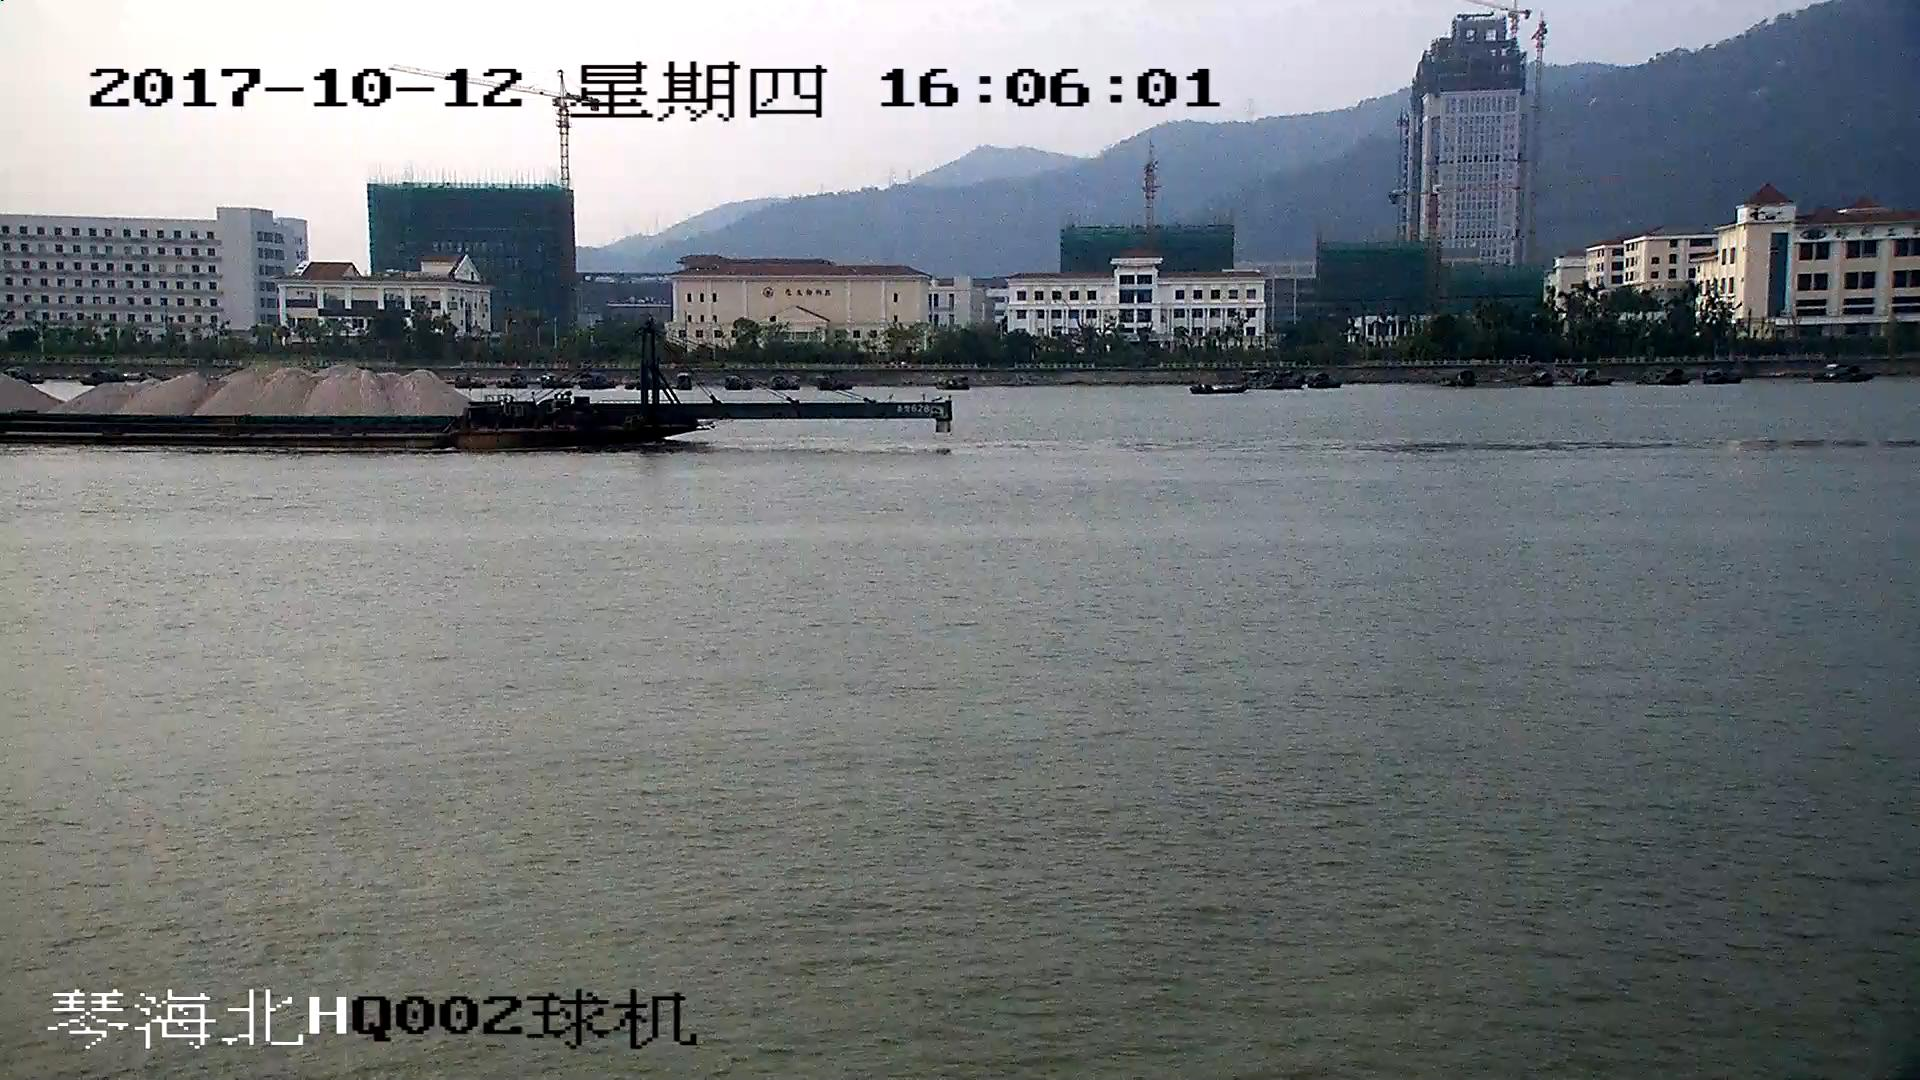ore carrier: (1, 320, 949, 452)
